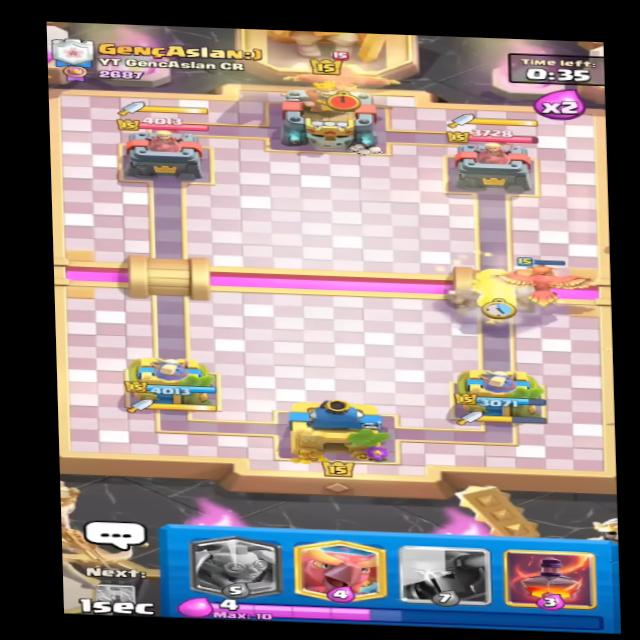phoenix: (274, 47, 403, 103)
